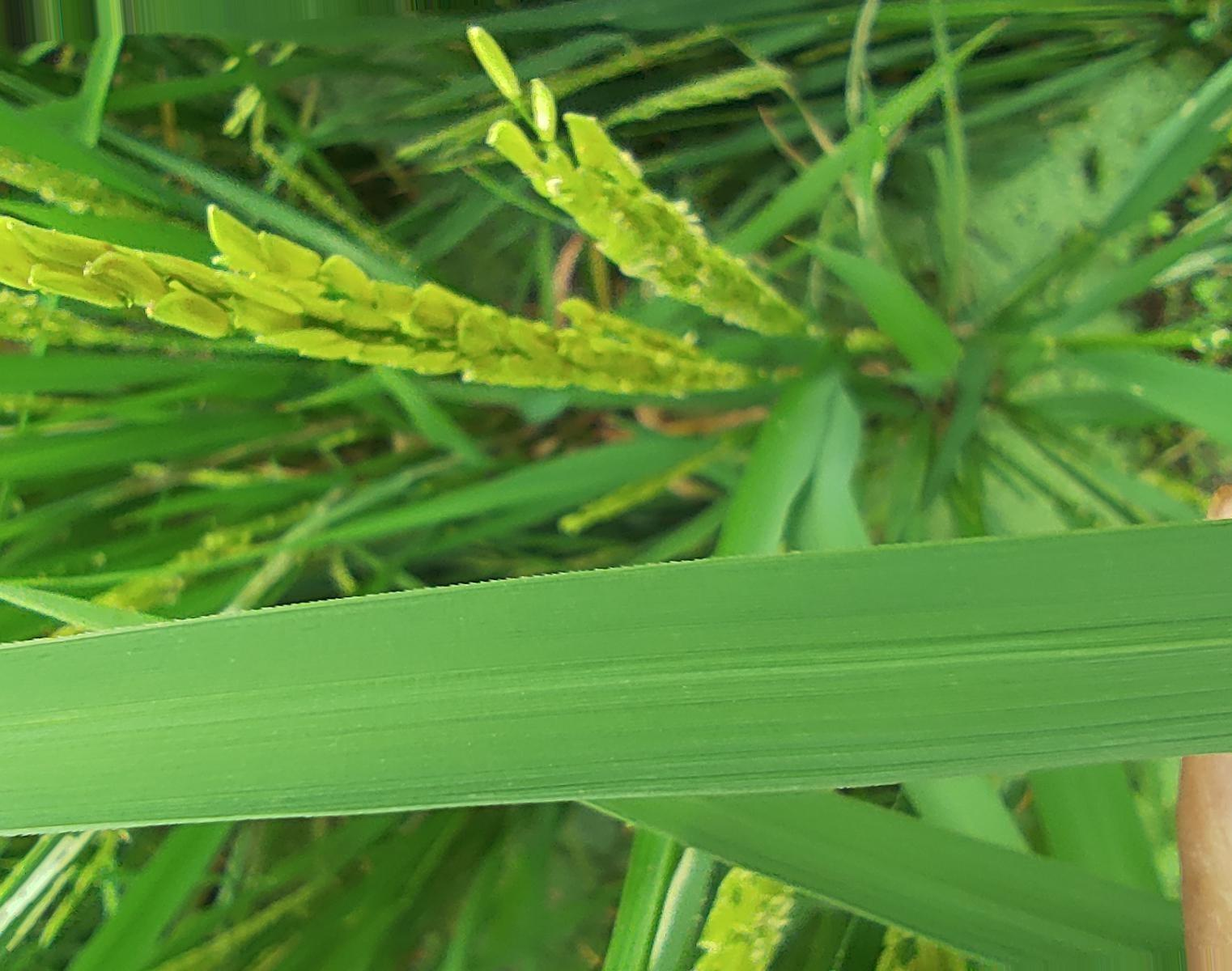Healthy: (1, 522, 1232, 834)
